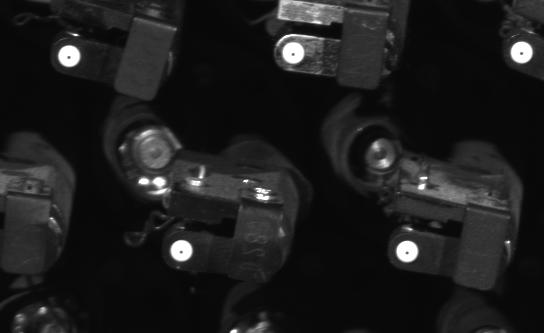fiber: (275, 37, 313, 68), (164, 236, 201, 267), (53, 40, 87, 71), (392, 237, 424, 267), (507, 37, 536, 67)
